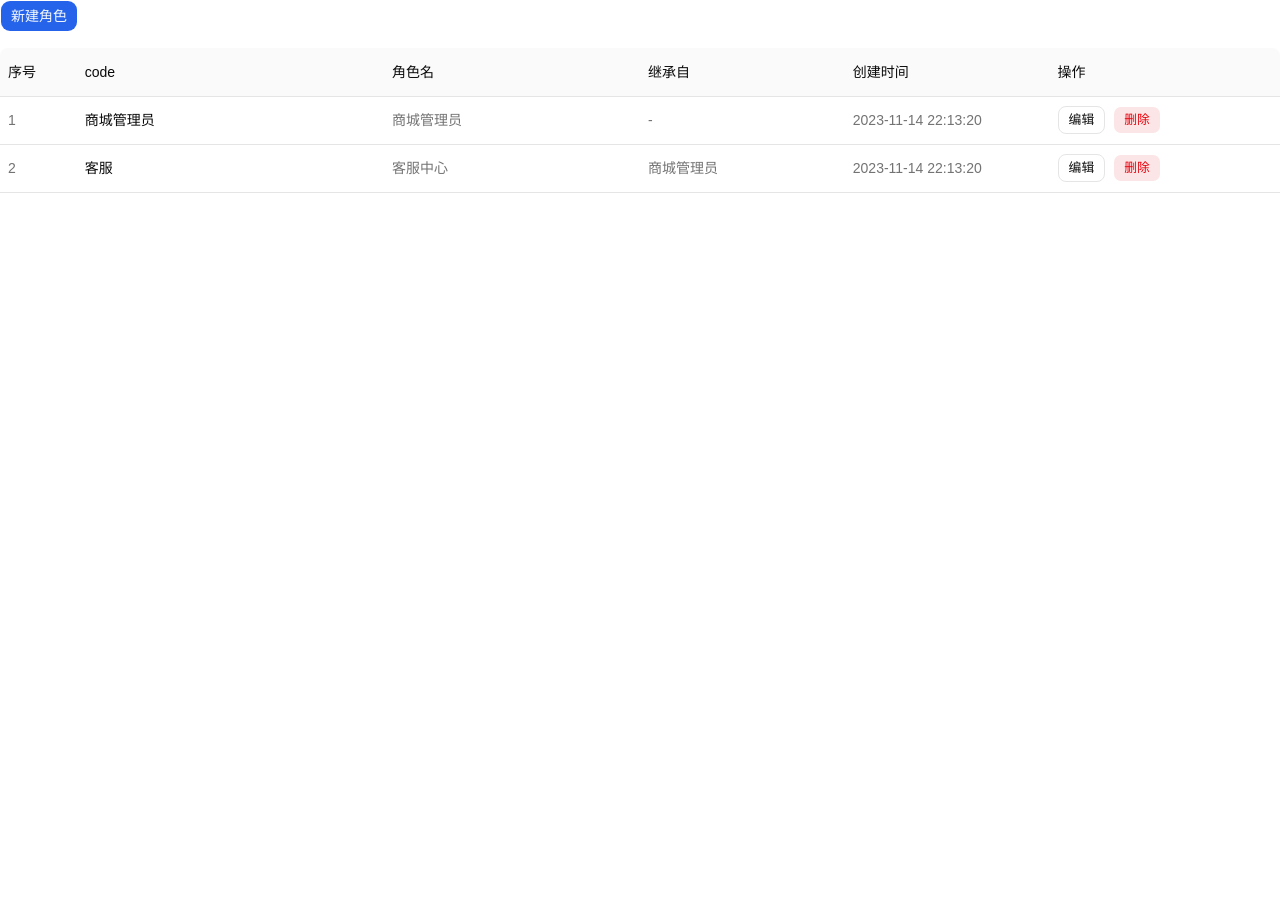
Test: 删除被访问密钥绑定的角色时提示绑定数量
The width and height of the screenshot is (1280, 900).
Click the 1st button "删除": [1137, 120] box [1113,106,1161,134]
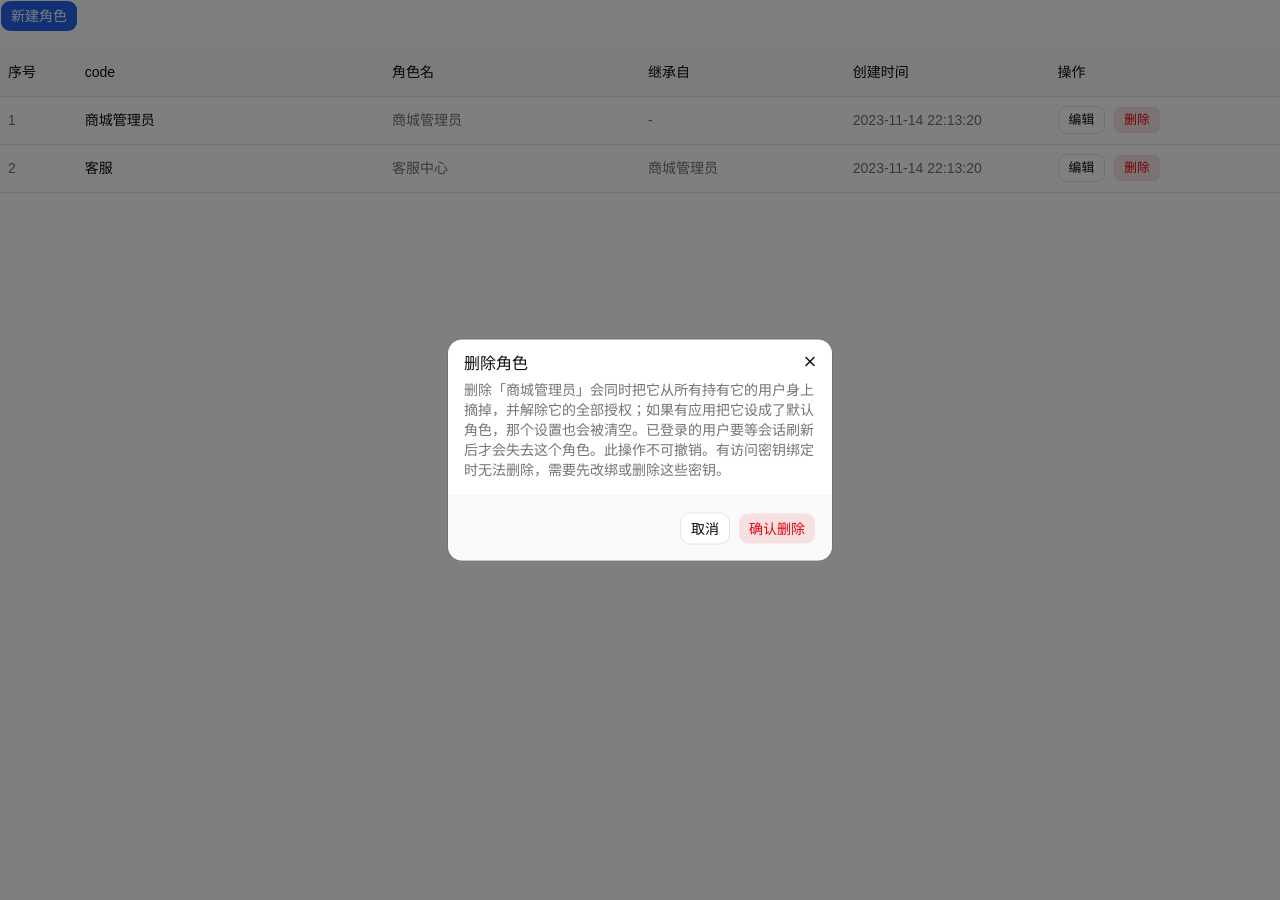
Click the button "确认删除": [777, 528] box [738,512,816,544]
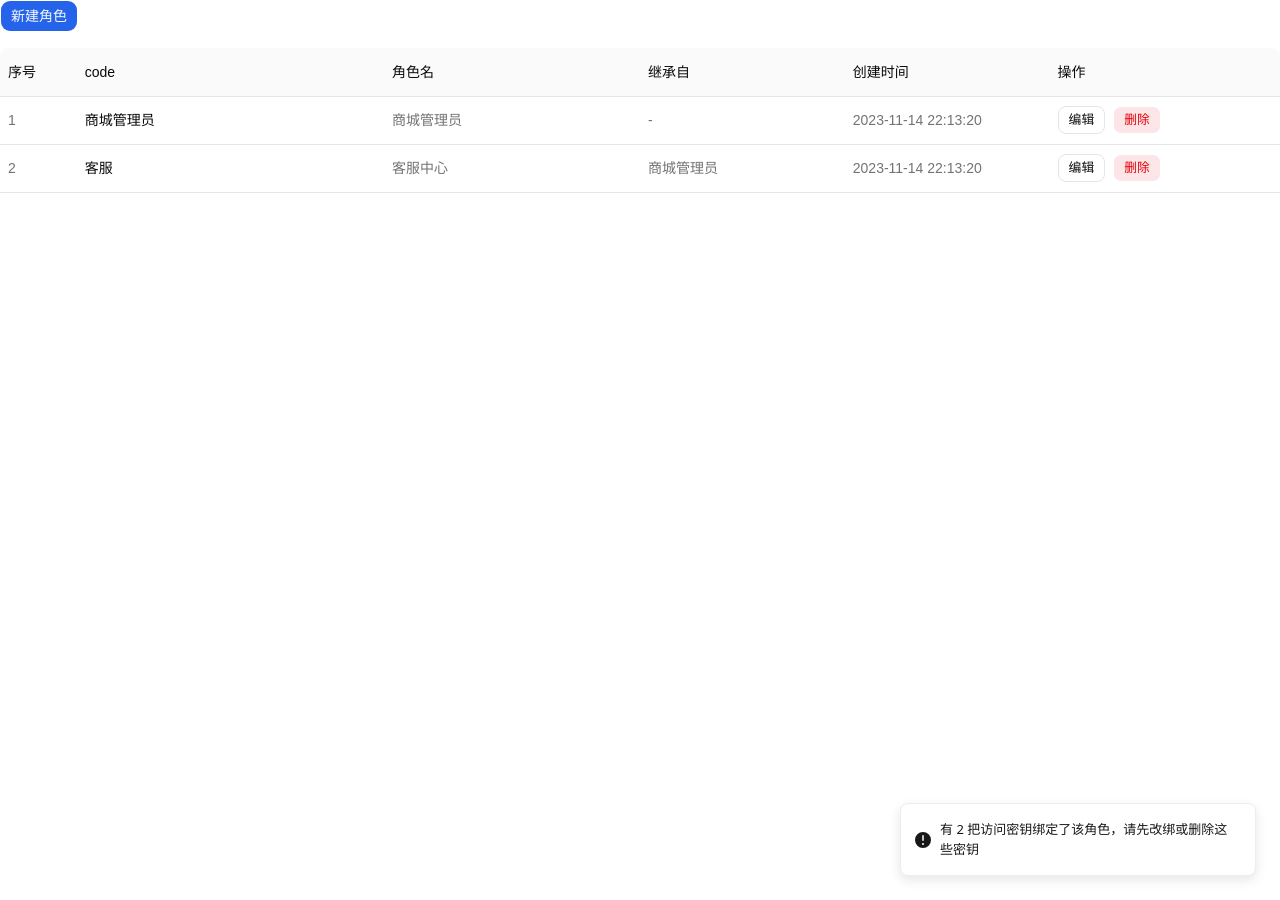
Result: the text "有 2 把访问密钥绑定了该角色，请先改绑或删除这些密钥" is shown at [940,820,1239,859]
